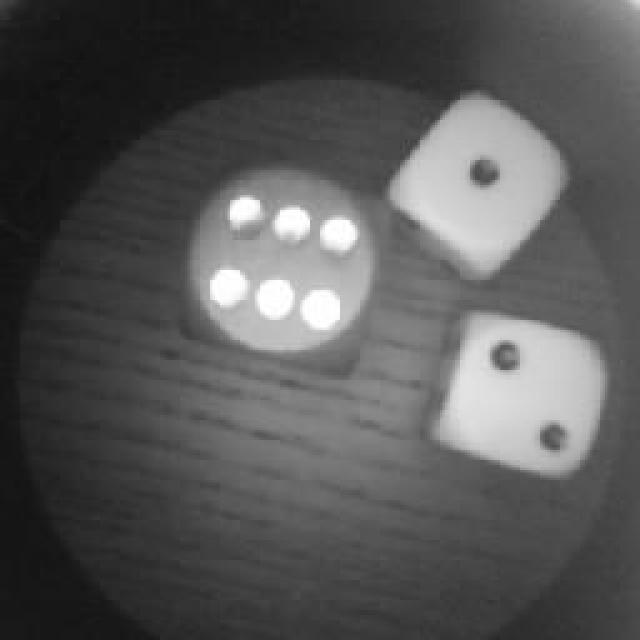dice_1: (398, 87, 572, 285)
dice_2: (432, 300, 610, 472)
dice_6: (182, 152, 390, 380)
